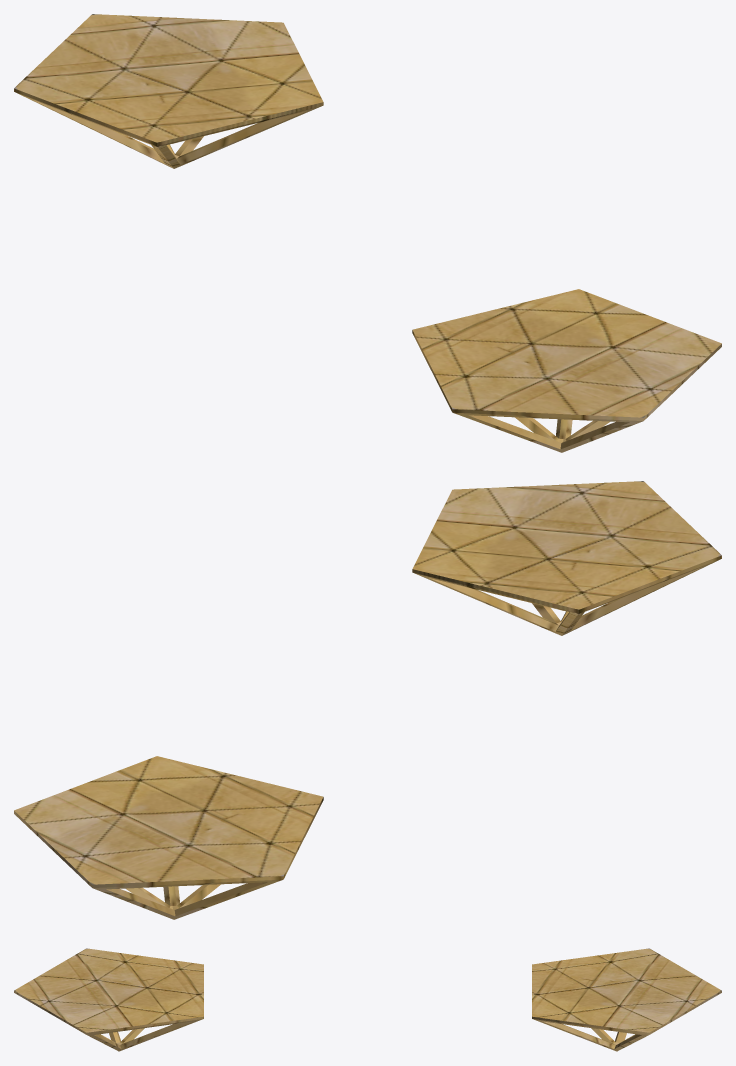
File: Pyramid Base_remodel.fbx
The picture shows the model from 3 angles, top to bottom: view 1: azimuth 30°, elevation 25°; view 2: azimuth 150°, elevation 25°; view 3: azimuth 270°, elevation 25°; orthographic projection. The views are drawn at different scales.
Visible parts, largest first — view 1: pyramid_base_remodel1; view 2: pyramid_base_remodel1; view 3: pyramid_base_remodel1.
Part boxes in pixels (left/top/right/bottom): pyramid_base_remodel1: left=14, top=14, right=721, bottom=452; pyramid_base_remodel1: left=14, top=481, right=721, bottom=919; pyramid_base_remodel1: left=14, top=948, right=721, bottom=1051.
Bounding box in the file's own units: 29.99 × 10.11 × 106.
